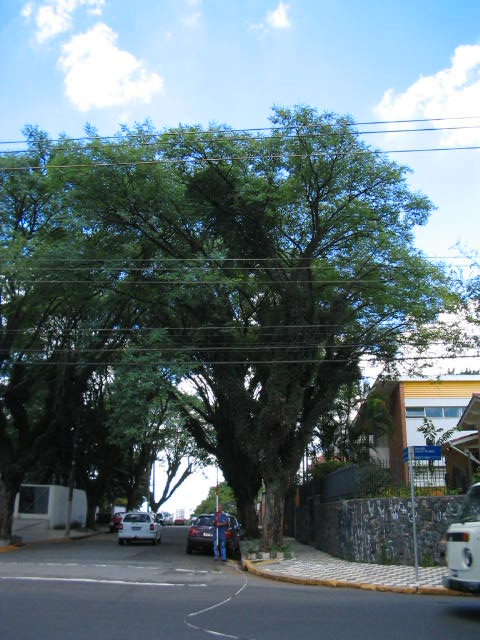crown: (122, 107, 478, 385), (4, 119, 187, 378)
stem: (252, 480, 291, 555), (4, 468, 29, 544)
stick: (210, 464, 224, 562)
tree: (122, 106, 476, 556), (2, 118, 190, 544)
